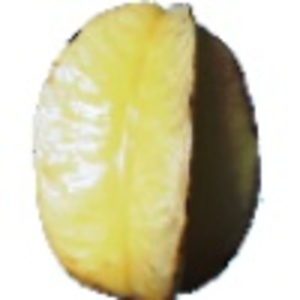carambola: (33, 1, 266, 300)
